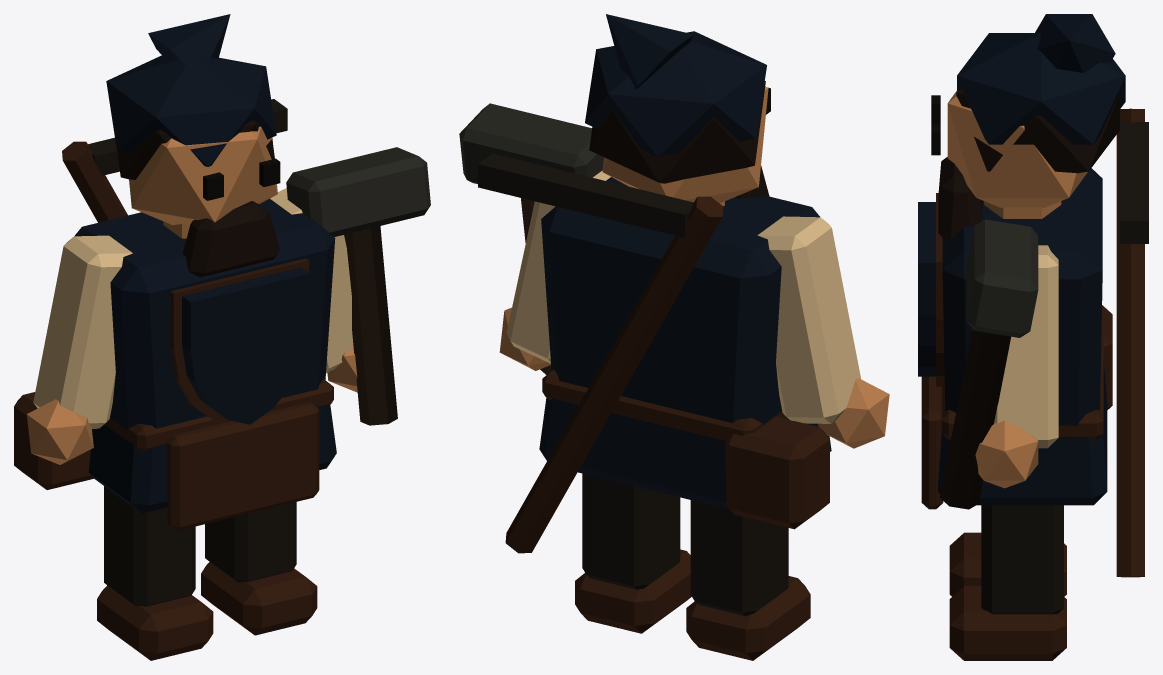
File: engineer.obj
The picture shows the model from 3 angles, left to right: view 1: azimuth 30°, elevation 25°; view 2: azimuth 150°, elevation 25°; view 3: azimuth 270°, elevation 25°; orthographic projection. The views are drawn at different scales.
Parts seen in each view (by area): view 1: body, tool; view 2: body, tool; view 3: body, tool.
Part boxes in pixels (left/top/right/bottom): body: left=14, top=14, right=357, bottom=660; tool: left=286, top=147, right=430, bottom=425; body: left=478, top=14, right=889, bottom=660; tool: left=459, top=103, right=603, bottom=374; body: left=918, top=14, right=1148, bottom=660; tool: left=939, top=219, right=1038, bottom=509.
Bounding box in the file's own units: 0.2597 × 0.3722 × 0.128.
